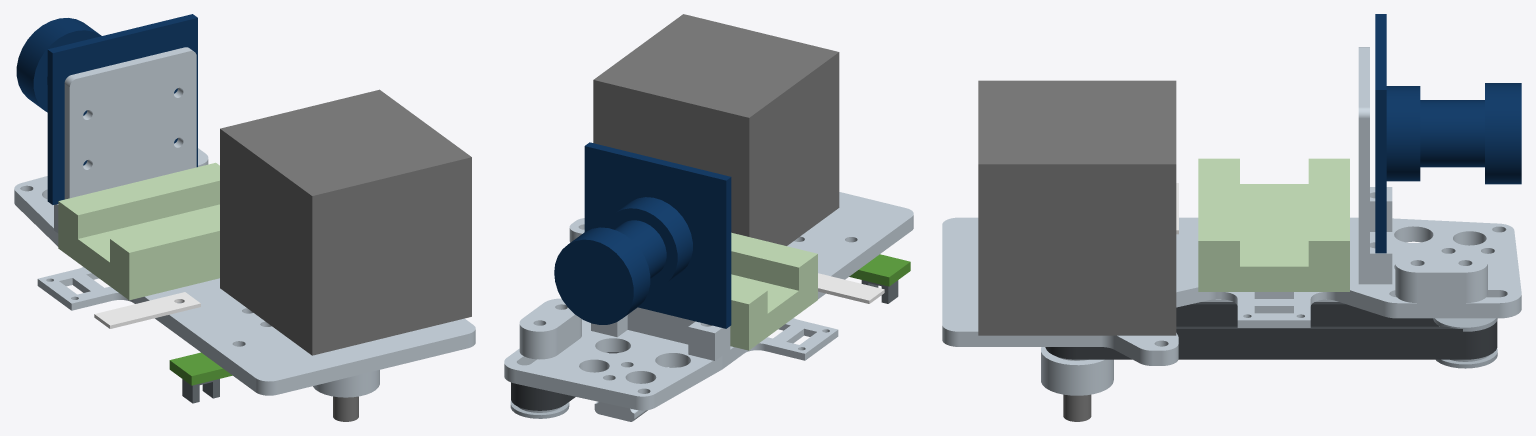
The model's file is xcarriage.obj.
3 views of the same model, side by side, from view 1: azimuth 30°, elevation 25°; view 2: azimuth 150°, elevation 25°; view 3: azimuth 270°, elevation 25° (orthographic). The views are drawn at different scales.
Parts seen in each view (by area): view 1: mesh6, mesh7, mesh173, mesh9, mesh100, mesh155, mesh230, mesh236, mesh237, mesh81, mesh234, mesh145 (+14 smaller); view 2: mesh9, mesh7, mesh150, mesh100, mesh8, mesh144, mesh234, mesh145, mesh64, mesh149, mesh232, mesh172 (+22 smaller); view 3: mesh5, mesh9, mesh100, mesh194, mesh235, mesh233, mesh147, mesh145, mesh231, mesh237, mesh149, mesh186 (+17 smaller).
Part boxes in pixels (x1=…): mesh6: x1=312, y1=157, x2=471, y2=355; mesh7: x1=220, y1=129, x2=312, y2=355; mesh173: x1=69, y1=51, x2=196, y2=198; mesh9: x1=220, y1=89, x2=471, y2=195; mesh100: x1=14, y1=176, x2=475, y2=381; mesh155: x1=52, y1=18, x2=197, y2=204; mesh230: x1=129, y1=231, x2=219, y2=300; mesh236: x1=78, y1=180, x2=219, y2=238; mesh237: x1=59, y1=162, x2=219, y2=214; mesh81: x1=277, y1=334, x2=467, y2=394; mesh234: x1=58, y1=201, x2=129, y2=299; mesh145: x1=16, y1=18, x2=99, y2=109; mesh9: x1=593, y1=14, x2=838, y2=117; mesh7: x1=749, y1=52, x2=839, y2=245; mesh150: x1=584, y1=146, x2=726, y2=328; mesh100: x1=504, y1=192, x2=913, y2=396; mesh8: x1=593, y1=80, x2=749, y2=236; mesh144: x1=554, y1=239, x2=633, y2=324; mesh234: x1=749, y1=254, x2=817, y2=350; mesh145: x1=569, y1=227, x2=650, y2=316; mesh64: x1=515, y1=370, x2=635, y2=409; mesh149: x1=616, y1=197, x2=692, y2=281; mesh232: x1=731, y1=251, x2=798, y2=290; mesh172: x1=627, y1=307, x2=695, y2=344; mesh5: x1=978, y1=164, x2=1176, y2=335; mesh9: x1=978, y1=80, x2=1176, y2=164; mesh100: x1=942, y1=217, x2=1521, y2=350; mesh194: x1=1077, y1=329, x2=1465, y2=359; mesh235: x1=1198, y1=241, x2=1349, y2=291; mesh233: x1=1240, y1=184, x2=1308, y2=266; mesh147: x1=1420, y1=100, x2=1484, y2=167; mesh145: x1=1485, y1=83, x2=1521, y2=184; mesh231: x1=1198, y1=158, x2=1239, y2=240; mesh237: x1=1308, y1=158, x2=1349, y2=240; mesh149: x1=1386, y1=86, x2=1420, y2=181; mesh186: x1=1176, y1=304, x2=1438, y2=326.
Size of the model in its own units: 0.069 by 0.063 by 0.103.
